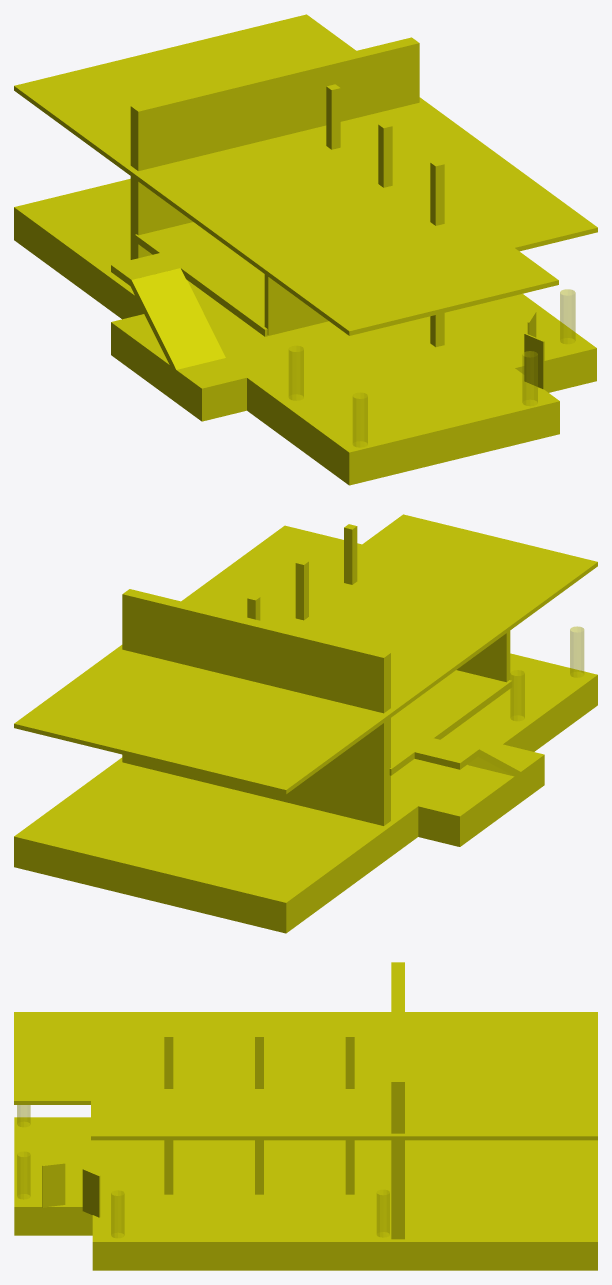
Rendered from flynns-interior-collider.dae.
The picture shows the model from 3 angles, top to bottom: view 1: azimuth 30°, elevation 25°; view 2: azimuth 150°, elevation 25°; view 3: azimuth 270°, elevation 25°; orthographic projection. The views are drawn at different scales.
Visible parts, largest first — view 1: collider-floor_001, collider-floor, collider-wall-back_001, collider-floor_008, collider-floor_005, collider-floor_006, collider-office_001, collider-office_004, collider-office_002, collider-interior-supports-01, collider-office_003, collider-wall-front_004 (+6 smaller); view 2: collider-floor_001, collider-floor, collider-wall-back_001, collider-floor_005, collider-floor_006, collider-office_001, collider-floor_008, collider-office_002, collider-office_003, collider-interior-supports-01, collider-interior-supports-02, collider-light-interior_004 (+2 smaller); view 3: collider-floor, collider-floor_001, collider-floor_008, collider-floor_005, collider-wall-back_001, collider-interior-supports-01, collider-interior-supports-03, collider-wall-front_004, collider-interior-supports-02, collider-wall-front_003, collider-light-interior_000, collider-light-interior_002 (+1 smaller).
Boxes of the visible parts, x1,y1,x2,y2 form: collider-floor_001: (14,14,597,303); collider-floor: (14,178,596,452); collider-wall-back_001: (130,37,419,280); collider-floor_008: (304,368,559,485); collider-floor_005: (305,247,558,335); collider-floor_006: (111,314,246,421); collider-office_001: (135,222,328,336); collider-office_004: (131,268,225,374); collider-office_002: (264,274,327,335); collider-interior-supports-01: (430,160,444,347); collider-office_003: (111,253,180,286); collider-wall-front_004: (524,333,544,389); collider-floor_001: (14,525,555,794); collider-floor: (14,693,555,933); collider-wall-back_001: (122,589,390,825); collider-floor_005: (362,514,597,596); collider-floor_006: (418,744,544,846); collider-office_001: (389,670,512,775); collider-floor_008: (505,653,597,735); collider-office_002: (457,631,510,682); collider-office_003: (414,738,479,769); collider-interior-supports-01: (344,524,357,584); collider-interior-supports-02: (295,559,308,620); collider-light-interior_004: (510,670,524,720); collider-floor: (92,1140,597,1270); collider-floor_001: (91,1012,597,1140); collider-floor_008: (14,1117,92,1235); collider-floor_005: (14,1012,92,1104); collider-wall-back_001: (391,962,404,1239); collider-interior-supports-01: (164,1033,173,1194); collider-interior-supports-03: (345,1033,354,1194); collider-wall-front_004: (42,1163,65,1207); collider-interior-supports-02: (255,1033,263,1194); collider-wall-front_003: (82,1169,100,1217); collider-light-interior_000: (111,1190,124,1237); collider-light-interior_002: (17,1151,30,1199).
Size of the model in its own units: 16.77 by 28.84 by 10.15.
